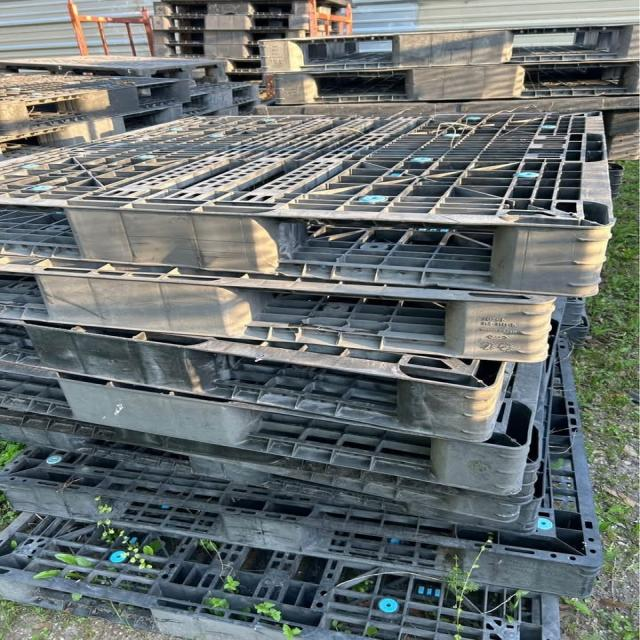non-igps: (0, 108, 624, 304), (0, 439, 614, 604), (1, 362, 568, 529), (0, 351, 567, 501), (0, 402, 560, 542), (0, 506, 567, 640), (0, 311, 521, 449), (0, 247, 561, 370)
